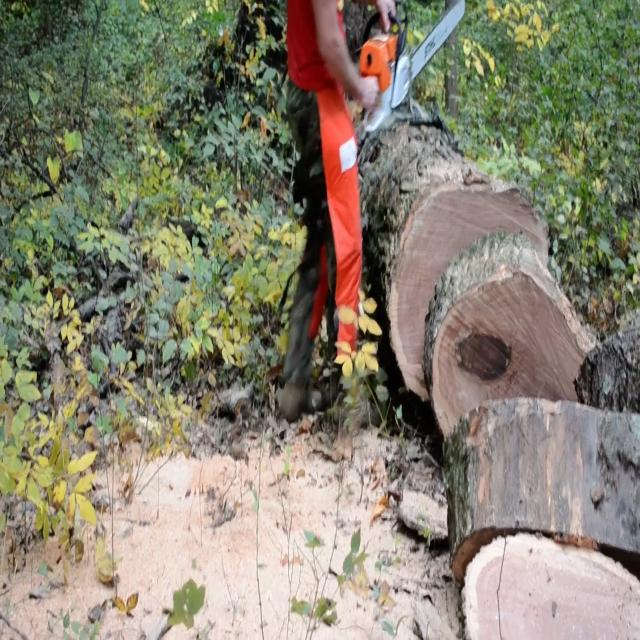Chainsaw: (350, 0, 478, 160)
